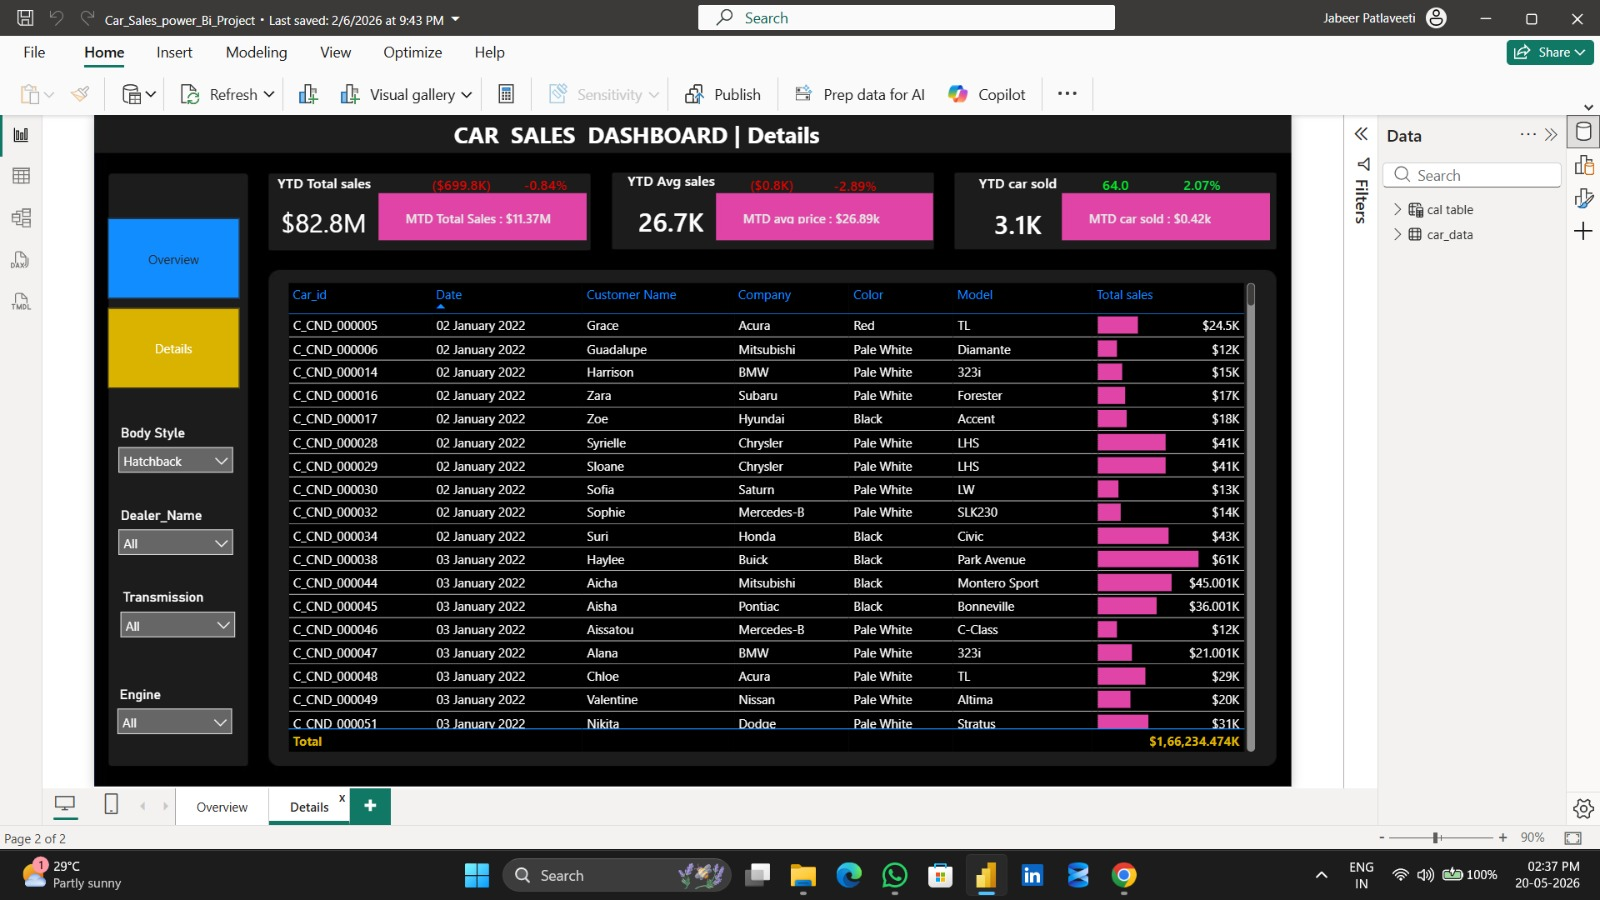

The page's visual inventory and layout, read from the dashboard file:
{"tool":"powerbi","page":{"name":"Details","canvas":[1280,720],"ordinal":1},"visuals":[{"type":"cardVisual","title":"YTD Total sales","fields":{"Data":["car_data.YTD sales"]},"box":[156.6,62.3,178,81.9],"z":0},{"type":"cardVisual","fields":{"Data":["car_data.sales diff"]},"box":[320.4,44.5,144.2,58.7],"z":1000},{"type":"cardVisual","fields":{"Data":["car_data.YoY sale growth"]},"box":[423.6,44.5,117.5,58.7],"z":2000},{"type":"cardVisual","fields":{"Data":["car_data.MTD KPI"]},"box":[304.4,83.7,222.2,50.5],"z":3000},{"type":"cardVisual","title":"YTD Avg sales","fields":{"Data":["car_data.YTD Avg Price"]},"box":[526.6,60.6,180.3,85.1],"z":4000},{"type":"cardVisual","fields":{"Data":["car_data.Avg price dif"]},"box":[652.1,44.7,144.3,57.7],"z":5000},{"type":"cardVisual","fields":{"Data":["car_data.YoY Avg price growth"]},"box":[741.6,46.2,144.3,57.7],"z":6000},{"type":"cardVisual","fields":{"Data":["car_data.MTD avg price KPI"]},"box":[665.1,83.7,232.3,50.5],"z":7000},{"type":"cardVisual","title":"YTD car sold","fields":{"Data":["car_data.YTD car sold"]},"box":[897.4,62,180.3,85.1],"z":8000},{"type":"cardVisual","fields":{"Data":["car_data.car sold dif"]},"box":[1020,44.7,144.3,57.7],"z":9000},{"type":"cardVisual","fields":{"Data":["car_data.YOY car sold growth"]},"box":[1112.4,44.7,144.3,57.7],"z":10000},{"type":"cardVisual","fields":{"Data":["car_data.MTD car sold KPI"]},"box":[1034.5,83.7,222.2,50.5],"z":11000},{"type":"textbox","box":[379.4,0,455.9,44.7],"z":17000},{"type":"slicer","fields":{"Values":["car_data.Body Style"]},"box":[15.9,326.1,142.8,67.8],"z":18000},{"type":"slicer","fields":{"Values":["car_data.Dealer_Name"]},"box":[15.9,414.1,142.8,67.8],"z":19000},{"type":"slicer","fields":{"Values":["car_data.Engine"]},"box":[14.4,606,142.8,67.8],"z":20000},{"type":"slicer","fields":{"Values":["car_data.Transmission"]},"box":[17.3,502.1,142.8,67.8],"z":21000},{"type":"tableEx","fields":{"Values":["car_data.Car_id","car_data.Date","car_data.Customer Name","car_data.Company","car_data.Color","car_data.Model","Sum(car_data.Price ($))"]},"box":[202,174.6,1044.6,510.7],"z":21001},{"type":"pageNavigator","box":[14.4,109.6,141.4,183.2],"z":21002}]}

Visuals, with their boxes on the page's 1280x720 design canvas (x1, y1, x2, y2). These are canvas units, not pixel positions in the 1600x900 screenshot, which may show the page scaled, cropped or inside an application window:
"YTD Total sales" cardVisual: box(157, 62, 335, 144)
cardVisual - car_data.sales diff: box(320, 44, 465, 103)
cardVisual - car_data.YoY sale growth: box(424, 44, 541, 103)
cardVisual - car_data.MTD KPI: box(304, 84, 527, 134)
"YTD Avg sales" cardVisual: box(527, 61, 707, 146)
cardVisual - car_data.Avg price dif: box(652, 45, 796, 102)
cardVisual - car_data.YoY Avg price growth: box(742, 46, 886, 104)
cardVisual - car_data.MTD avg price KPI: box(665, 84, 897, 134)
"YTD car sold" cardVisual: box(897, 62, 1078, 147)
cardVisual - car_data.car sold dif: box(1020, 45, 1164, 102)
cardVisual - car_data.YOY car sold growth: box(1112, 45, 1257, 102)
cardVisual - car_data.MTD car sold KPI: box(1034, 84, 1257, 134)
textbox: box(379, 0, 835, 45)
slicer - car_data.Body Style: box(16, 326, 159, 394)
slicer - car_data.Dealer_Name: box(16, 414, 159, 482)
slicer - car_data.Engine: box(14, 606, 157, 674)
slicer - car_data.Transmission: box(17, 502, 160, 570)
tableEx - car_data.Car_id x car_data.Date: box(202, 175, 1247, 685)
pageNavigator: box(14, 110, 156, 293)
